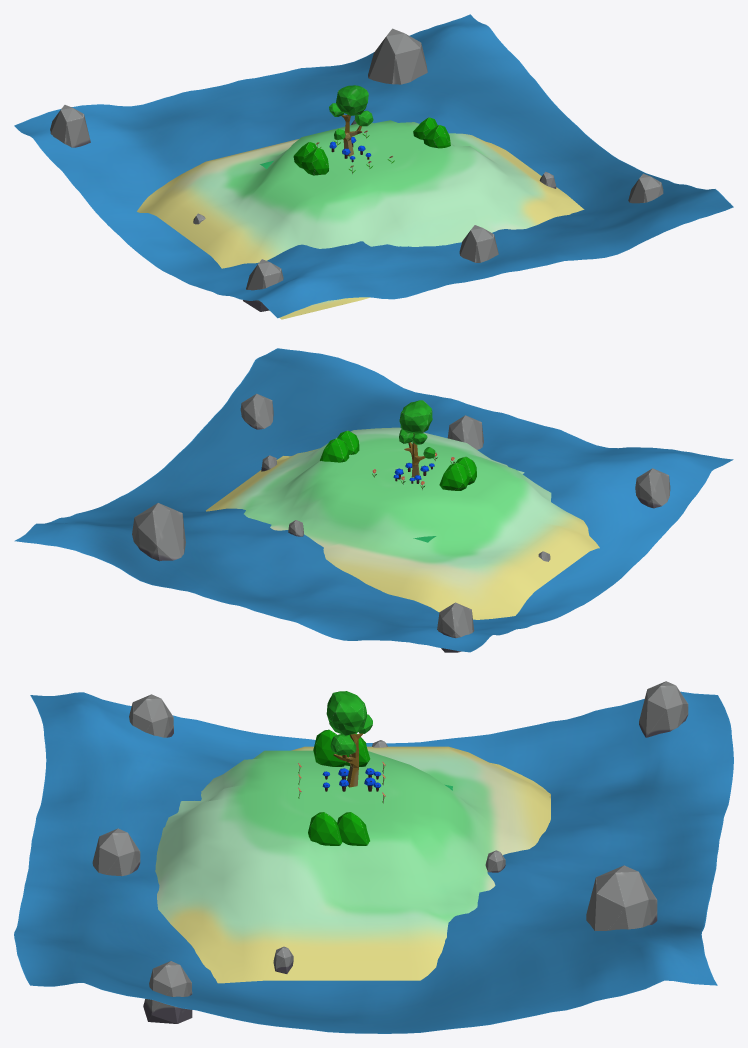
The model's file is JAM2.fbx.
3 renders of one model, top to bottom at view 1: azimuth 30°, elevation 25°; view 2: azimuth 150°, elevation 25°; view 3: azimuth 270°, elevation 25°, orthographic. The views are drawn at different scales.
Visible parts, largest first — view 1: Sea, Island, Rock7, Tree 1, Rock6, Rock4, Rock5, Rock8, Bush3; view 2: Sea, Island, Rock7, Tree 1, Rock5, Rock6, Rock8, Rock4, Bush1, Bush2; view 3: Sea, Island, Rock7, Tree 1, Rock8, Rock6, Rock4, Rock5, Bush4, Bush2, Bush3.
Boxes of the visible parts, <box> form: Sea: <box>14,14,733,318</box>; Island: <box>137,120,584,319</box>; Rock7: <box>368,28,427,84</box>; Tree 1: <box>329,85,373,156</box>; Rock6: <box>50,105,90,147</box>; Rock4: <box>459,225,498,262</box>; Rock5: <box>243,259,283,311</box>; Rock8: <box>628,173,663,203</box>; Bush3: <box>301,148,328,175</box>; Sea: <box>14,348,733,652</box>; Island: <box>206,427,599,619</box>; Rock7: <box>132,503,185,561</box>; Tree 1: <box>399,400,435,477</box>; Rock5: <box>635,468,670,508</box>; Rock6: <box>437,602,474,652</box>; Rock8: <box>240,393,273,429</box>; Rock4: <box>447,415,483,449</box>; Bush1: <box>439,462,468,490</box>; Bush2: <box>320,438,349,462</box>; Sea: <box>14,691,733,1033</box>; Island: <box>155,746,550,983</box>; Rock7: <box>586,865,657,930</box>; Tree 1: <box>326,691,372,787</box>; Rock8: <box>143,961,192,1023</box>; Rock6: <box>639,681,688,737</box>; Rock4: <box>92,828,140,876</box>; Rock5: <box>129,694,173,737</box>; Bush4: <box>308,812,341,845</box>; Bush2: <box>337,812,369,845</box>; Bush3: <box>313,729,346,766</box>.
Size of the model in its own units: 7103 by 2073 by 7371.
